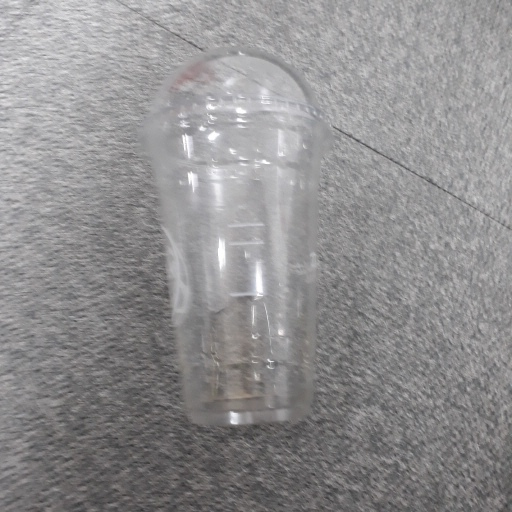Plastic_2: (143, 44, 331, 434)
